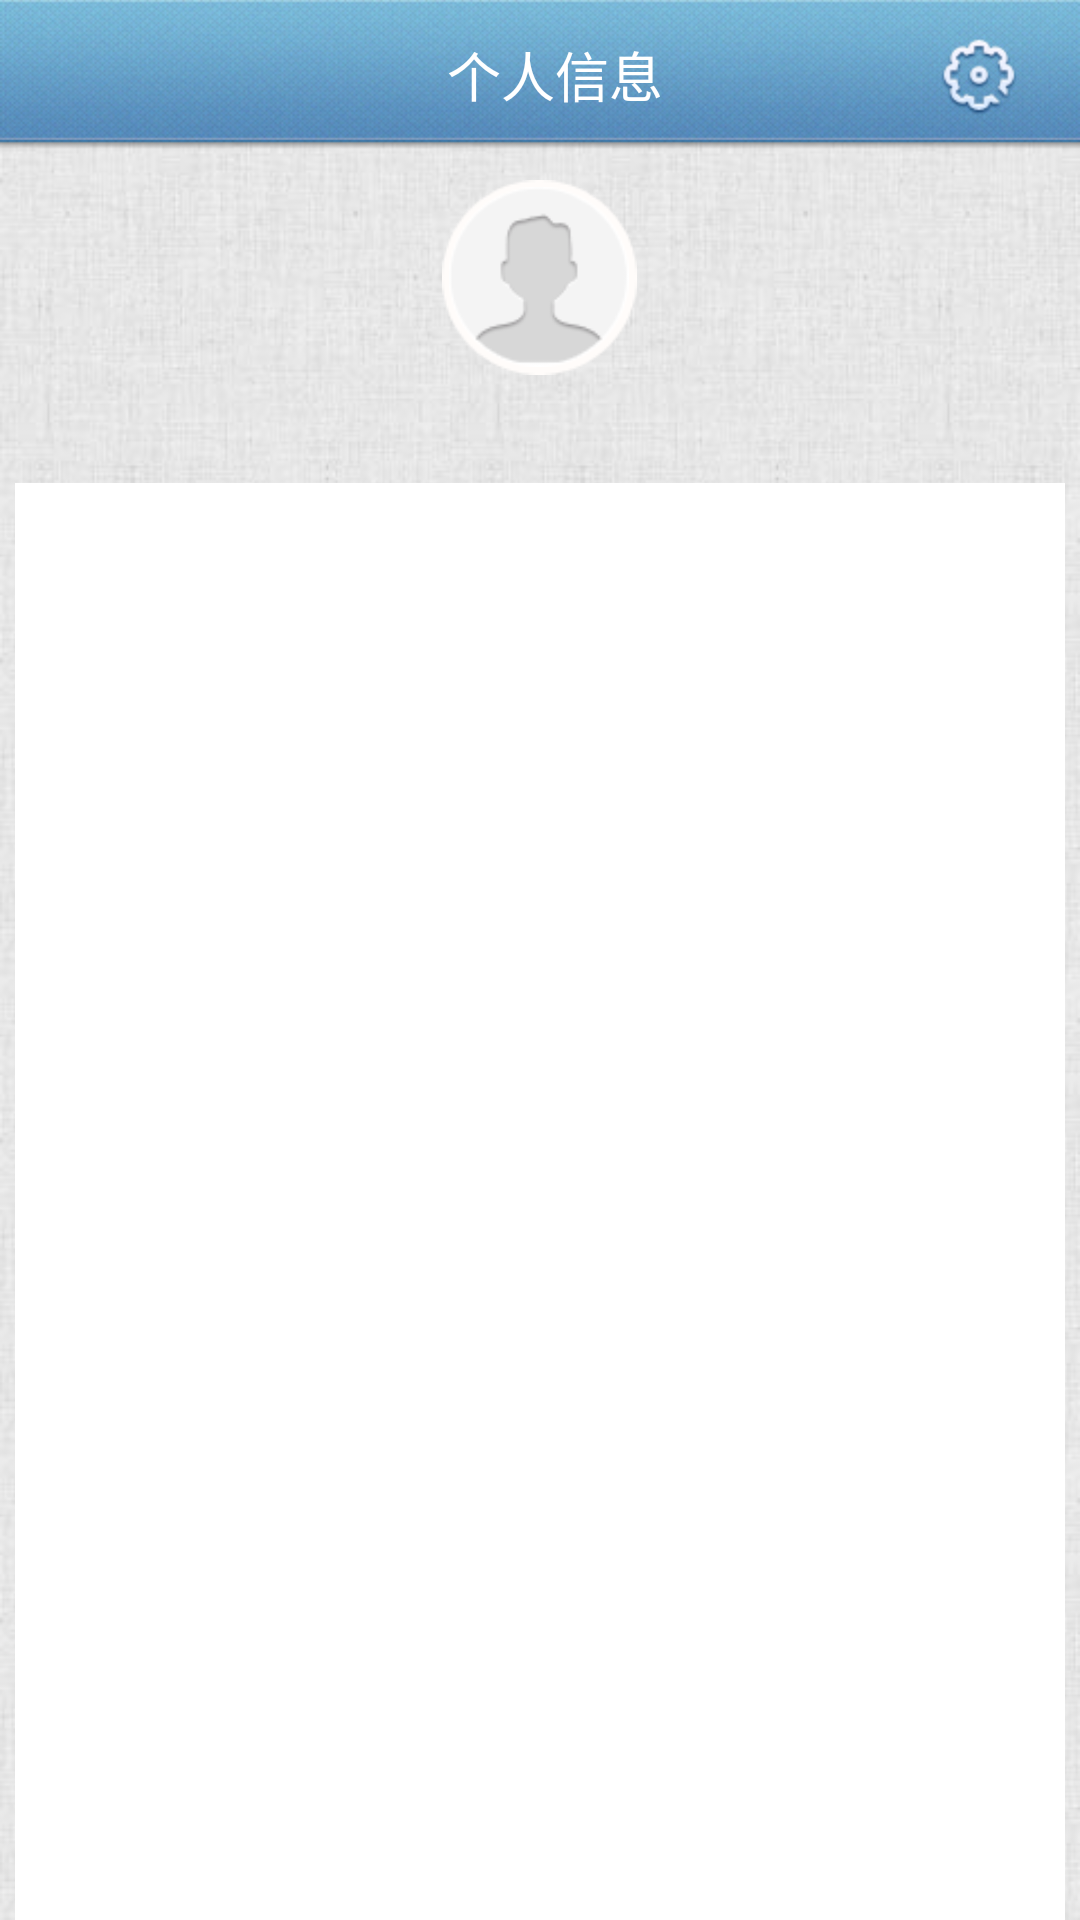

Icon click points for this 1080 x 1920 phone screenshot, format [x,y]:
head: [539,277]
